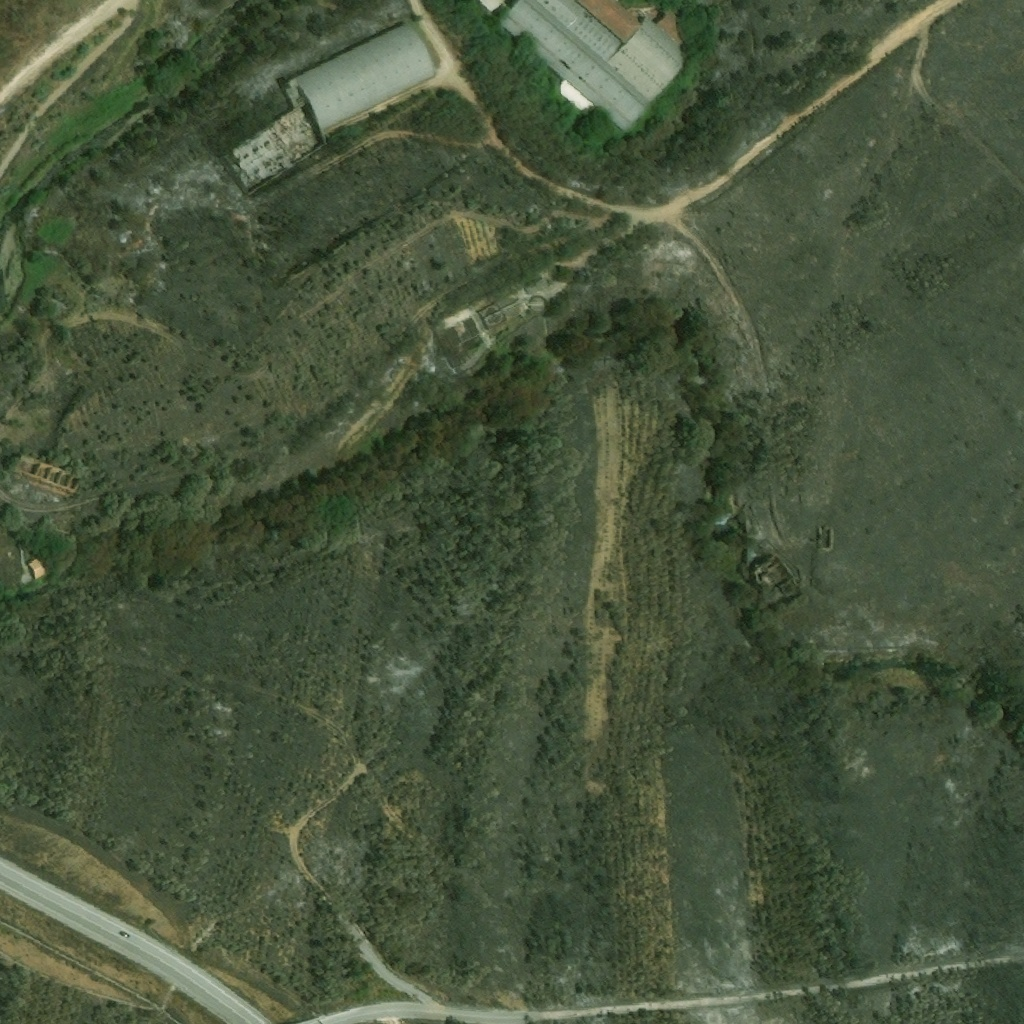0 no-damage: (498, 0, 696, 138), (293, 21, 438, 133), (26, 553, 57, 581)
3 destroyed: (221, 103, 329, 197), (477, 301, 508, 330), (452, 318, 480, 345)
